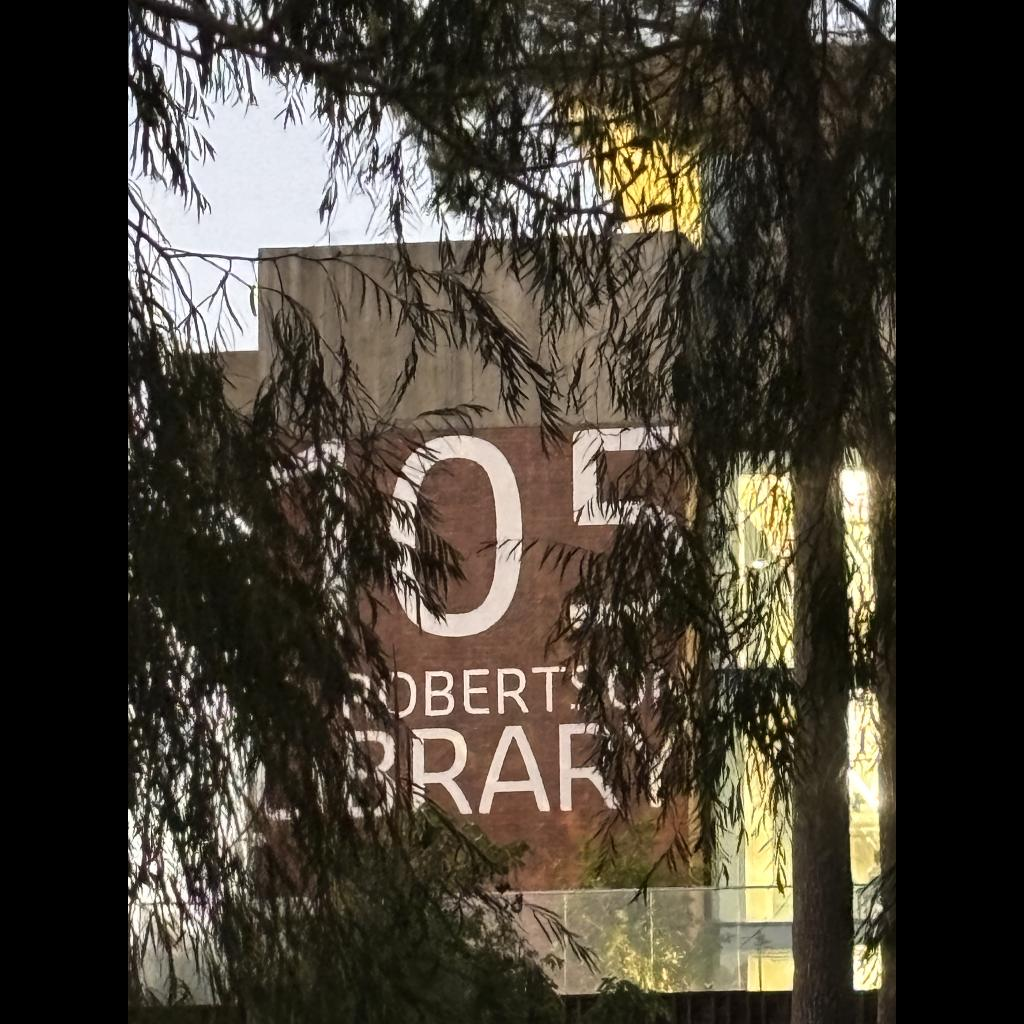BuildingCodes: (253, 424, 695, 640)
